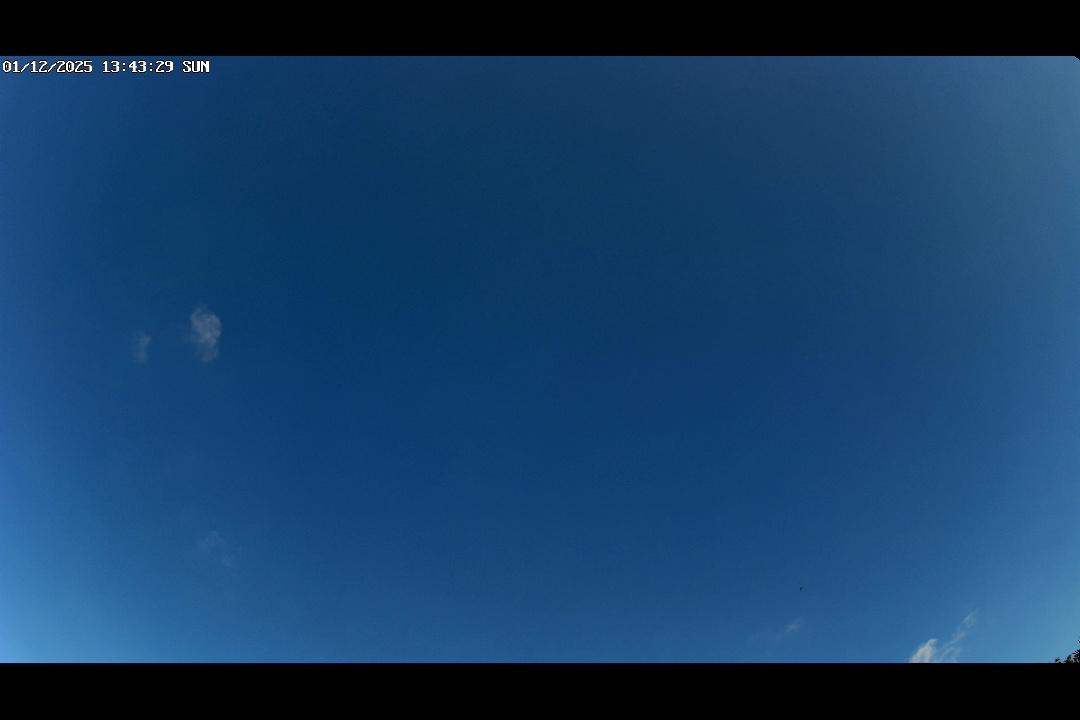WildLife: (795, 583, 812, 594)
